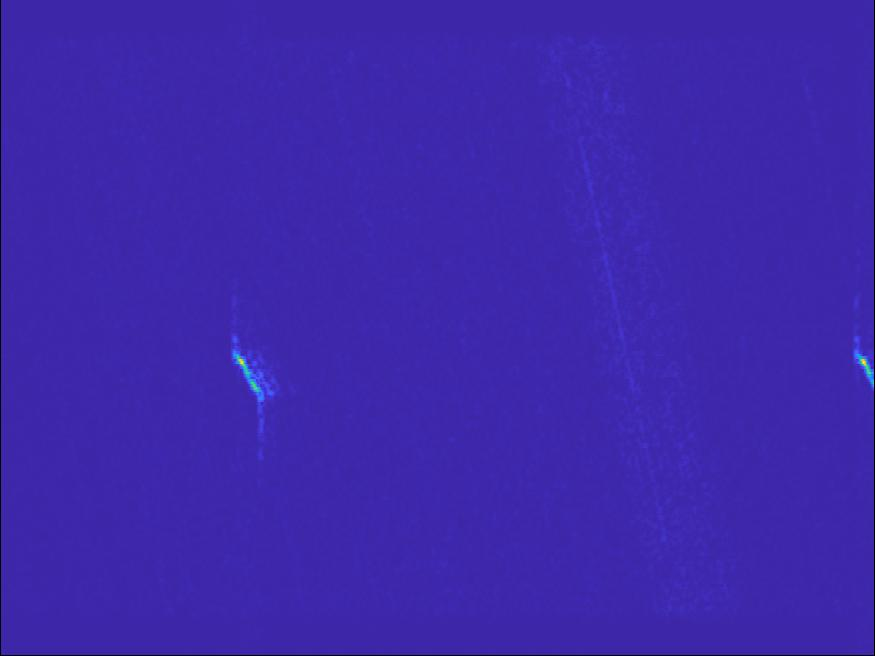Interference: (397, 283, 618, 367), (252, 381, 391, 489), (61, 298, 211, 357), (233, 583, 342, 656), (5, 467, 106, 520), (306, 1, 398, 56), (326, 128, 414, 177)
